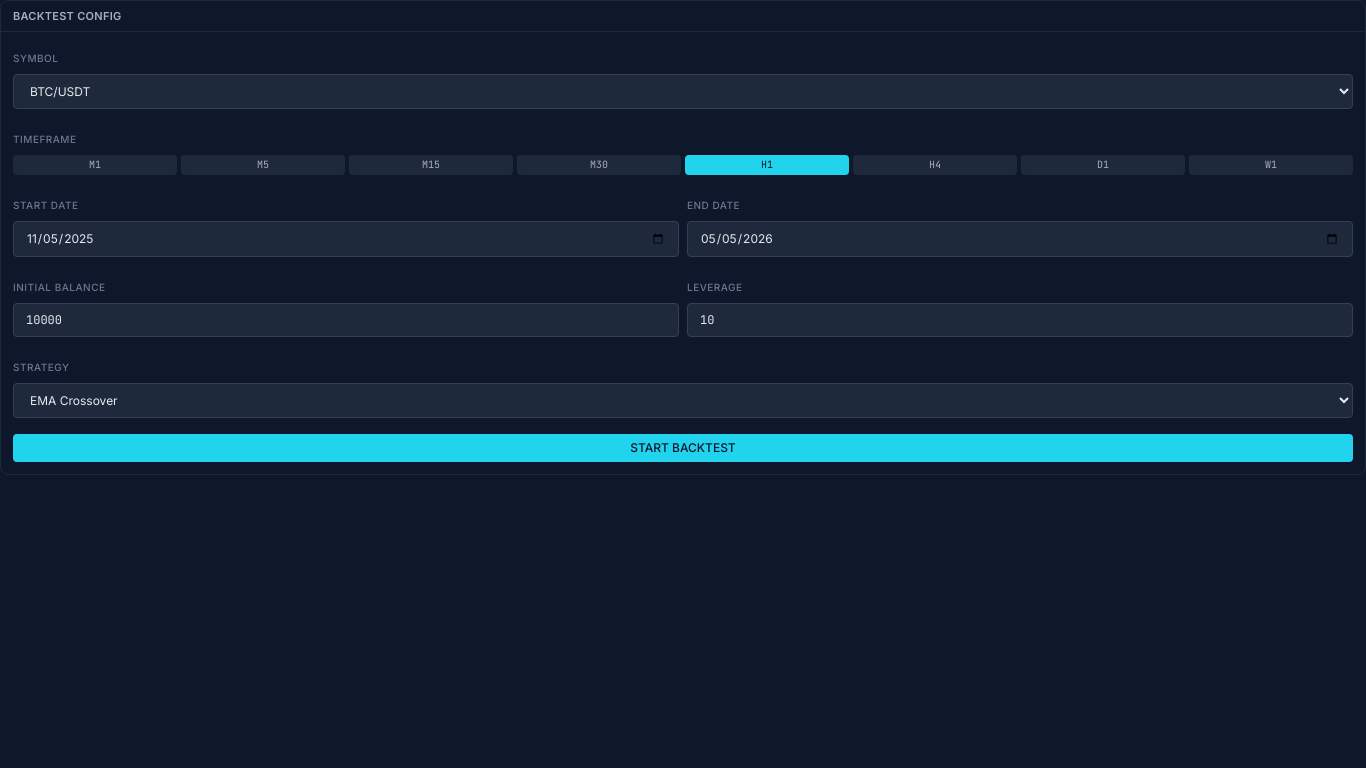
BacktestConfig › accordion appears when strategy has param_definitions
# Trigger strategy change to load param definitions
Select "EMA Crossover" in the dropdown below "Strategy" at (683, 400), box [13,383,1353,418]
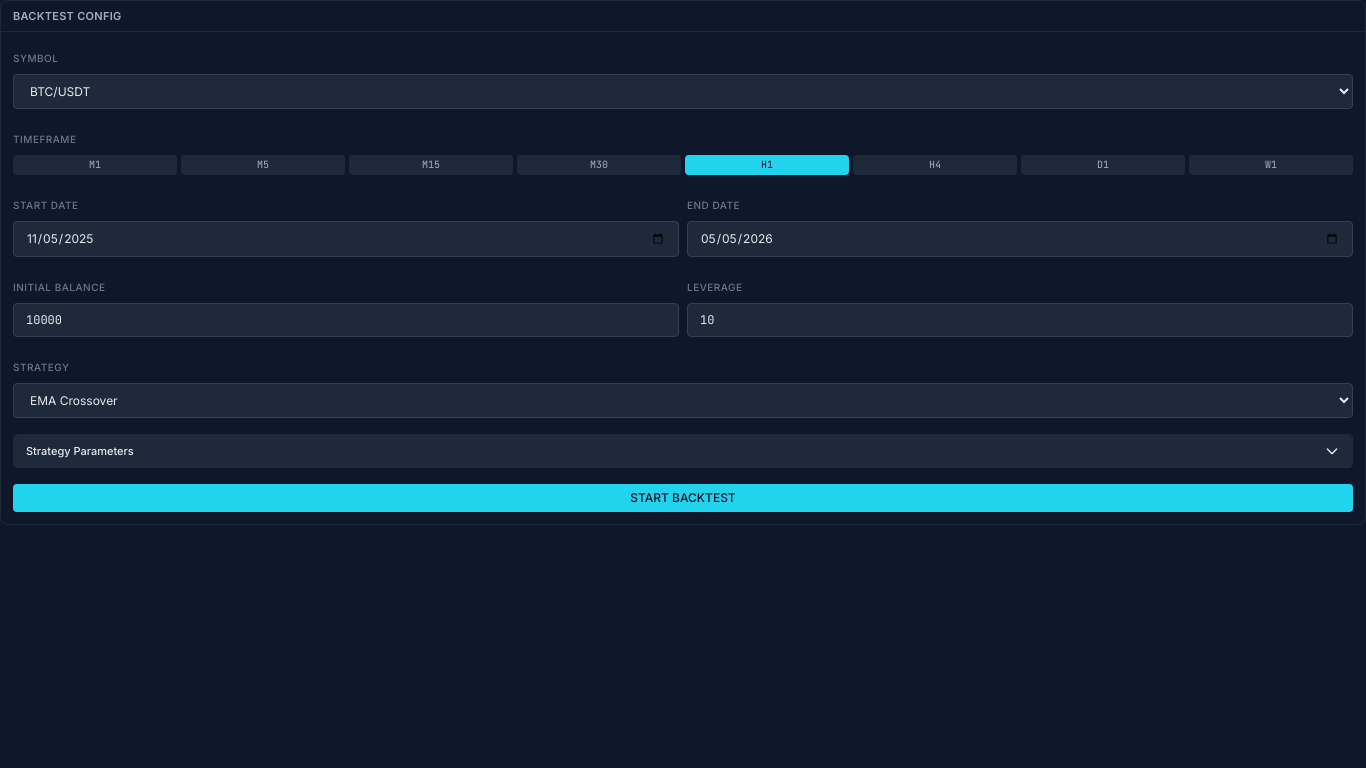
Expected: the text "Strategy Parameters" is shown, [26,444,134,458]
